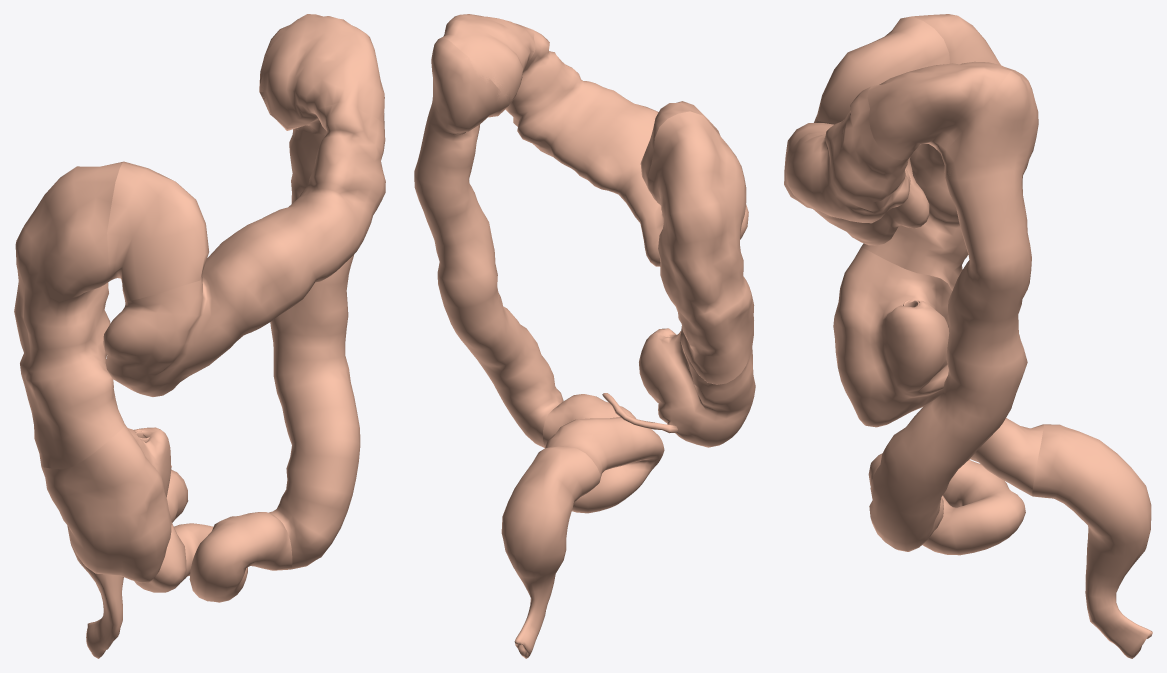
File: LargeIntestine.glb
3 renders of one model, left to right at view 1: azimuth 30°, elevation 25°; view 2: azimuth 150°, elevation 25°; view 3: azimuth 270°, elevation 25°, orthographic. The views are drawn at different scales.
Visible parts, largest first — view 1: VH_M_transverse_colon, VH_M_ascending_colon, VH_M_descending_colon, VH_M_caecum, VH_M_hepatic_flexure_of_colon, VH_M_sigmoid_colon, VH_M_splenic_flexure_of_colon, VH_M_rectum; view 2: VH_M_descending_colon, VH_M_ascending_colon, VH_M_transverse_colon, VH_M_rectum, VH_M_caecum, VH_M_sigmoid_colon, VH_M_splenic_flexure_of_colon, VH_M_hepatic_flexure_of_colon, VH_M_vermiform_appendix; view 3: VH_M_descending_colon, VH_M_caecum, VH_M_rectum, VH_M_transverse_colon, VH_M_splenic_flexure_of_colon, VH_M_sigmoid_colon, VH_M_ascending_colon, VH_M_hepatic_flexure_of_colon.
Part boxes in pixels (bbox=[...]): VH_M_transverse_colon: bbox=[103, 32, 385, 396]; VH_M_ascending_colon: bbox=[14, 161, 124, 469]; VH_M_descending_colon: bbox=[259, 19, 360, 569]; VH_M_caecum: bbox=[41, 424, 171, 582]; VH_M_hepatic_flexure_of_colon: bbox=[107, 161, 209, 301]; VH_M_sigmoid_colon: bbox=[134, 469, 292, 602]; VH_M_splenic_flexure_of_colon: bbox=[259, 14, 384, 135]; VH_M_rectum: bbox=[67, 525, 123, 658]; VH_M_descending_colon: bbox=[414, 38, 563, 447]; VH_M_ascending_colon: bbox=[648, 111, 754, 384]; VH_M_transverse_colon: bbox=[469, 28, 748, 266]; VH_M_rectum: bbox=[501, 446, 600, 658]; VH_M_caecum: bbox=[639, 328, 755, 447]; VH_M_sigmoid_colon: bbox=[543, 394, 664, 513]; VH_M_splenic_flexure_of_colon: bbox=[432, 14, 535, 135]; VH_M_hepatic_flexure_of_colon: bbox=[640, 101, 720, 192]; VH_M_vermiform_appendix: bbox=[602, 393, 677, 433]; VH_M_descending_colon: bbox=[869, 70, 1038, 551]; VH_M_caecum: bbox=[833, 247, 952, 427]; VH_M_rectum: bbox=[1032, 424, 1152, 658]; VH_M_transverse_colon: bbox=[784, 62, 972, 245]; VH_M_splenic_flexure_of_colon: bbox=[867, 61, 1038, 179]; VH_M_sigmoid_colon: bbox=[868, 418, 1043, 555]; VH_M_ascending_colon: bbox=[861, 14, 1000, 290]; VH_M_hepatic_flexure_of_colon: bbox=[817, 16, 949, 123].
Size of the model in its own units: 0.9155 by 1.59 by 0.7944.
